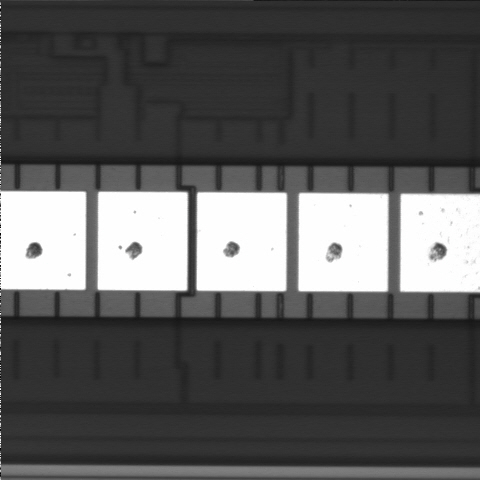pad: (98, 192, 188, 291), (197, 192, 287, 291), (298, 193, 388, 292)
